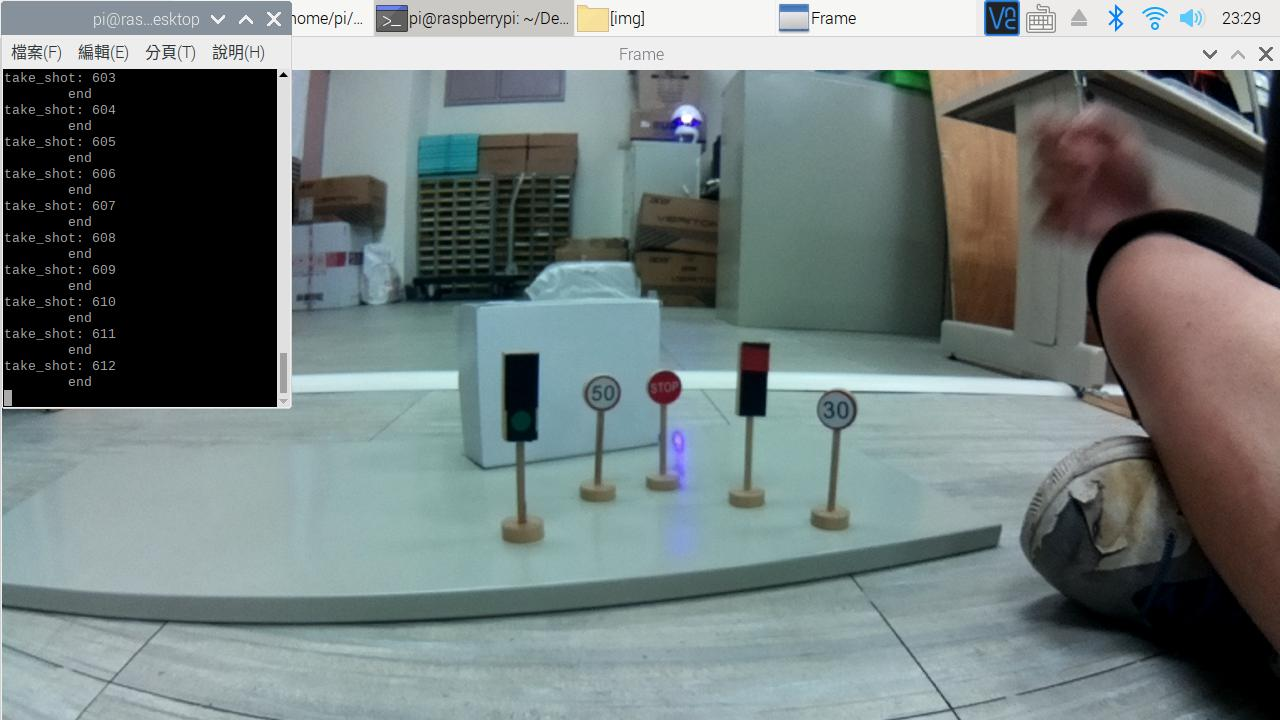Green: (495, 349, 544, 447)
Red: (731, 333, 774, 431)
Speed30: (809, 387, 873, 444)
Speed50: (574, 368, 629, 414)
Stop: (643, 362, 687, 414)
